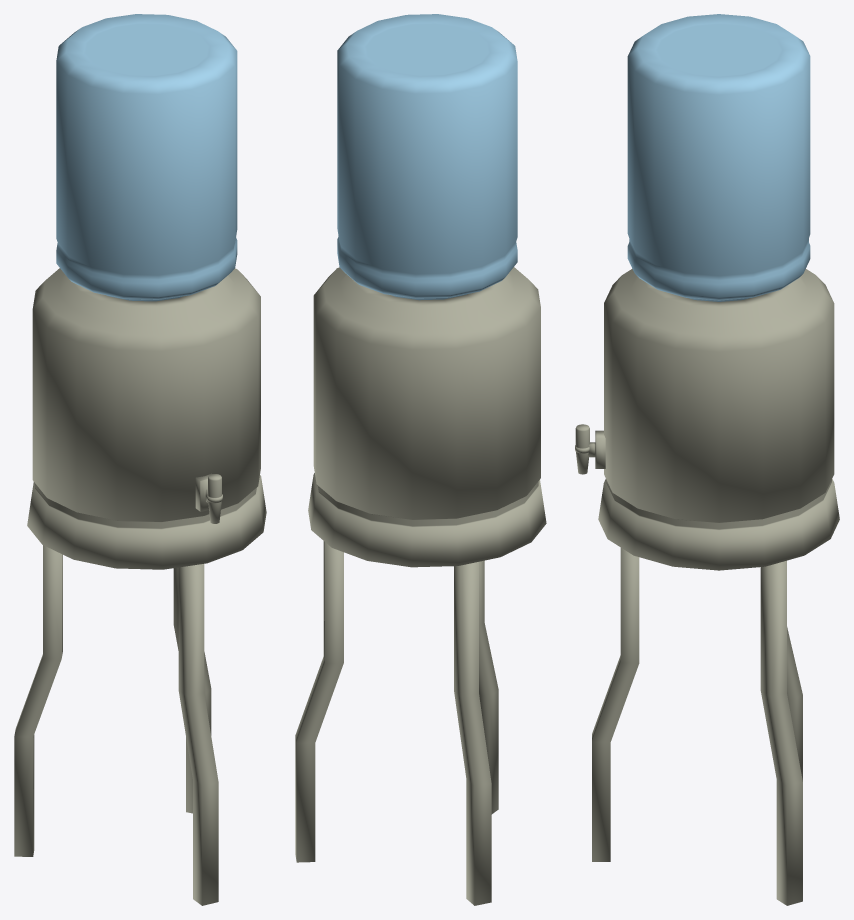
The model's file is Water Dispenser.fbx.
3 renders of one model, left to right at view 1: azimuth 30°, elevation 25°; view 2: azimuth 150°, elevation 25°; view 3: azimuth 270°, elevation 25°, orthographic.
Parts seen in each view (by area): view 1: Water Dispenser, Water Tank; view 2: Water Dispenser, Water Tank; view 3: Water Dispenser, Water Tank.
Boxes of the visible parts, x1,y1,x2,y2 form: Water Dispenser: (14,268,266,905); Water Tank: (56,14,237,301); Water Dispenser: (295,267,546,905); Water Tank: (337,14,517,300); Water Dispenser: (575,269,839,905); Water Tank: (627,14,810,301).
Size of the model in its own units: 45.53 by 168 by 49.91.
